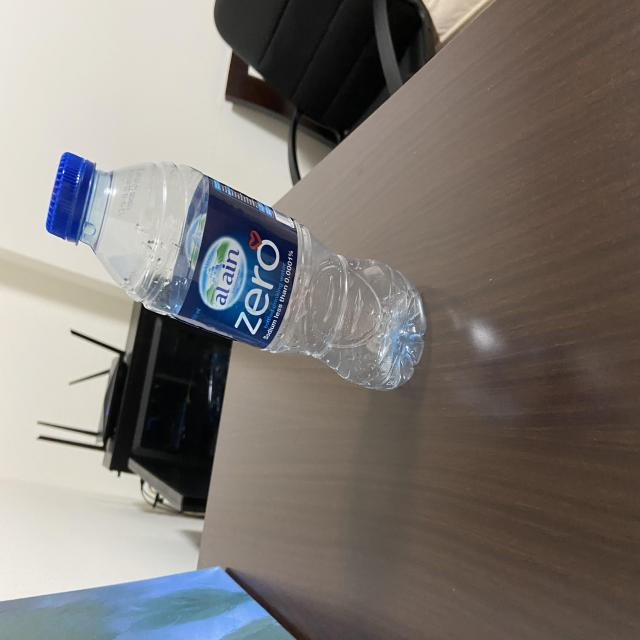bottle: (55, 146, 425, 406)
